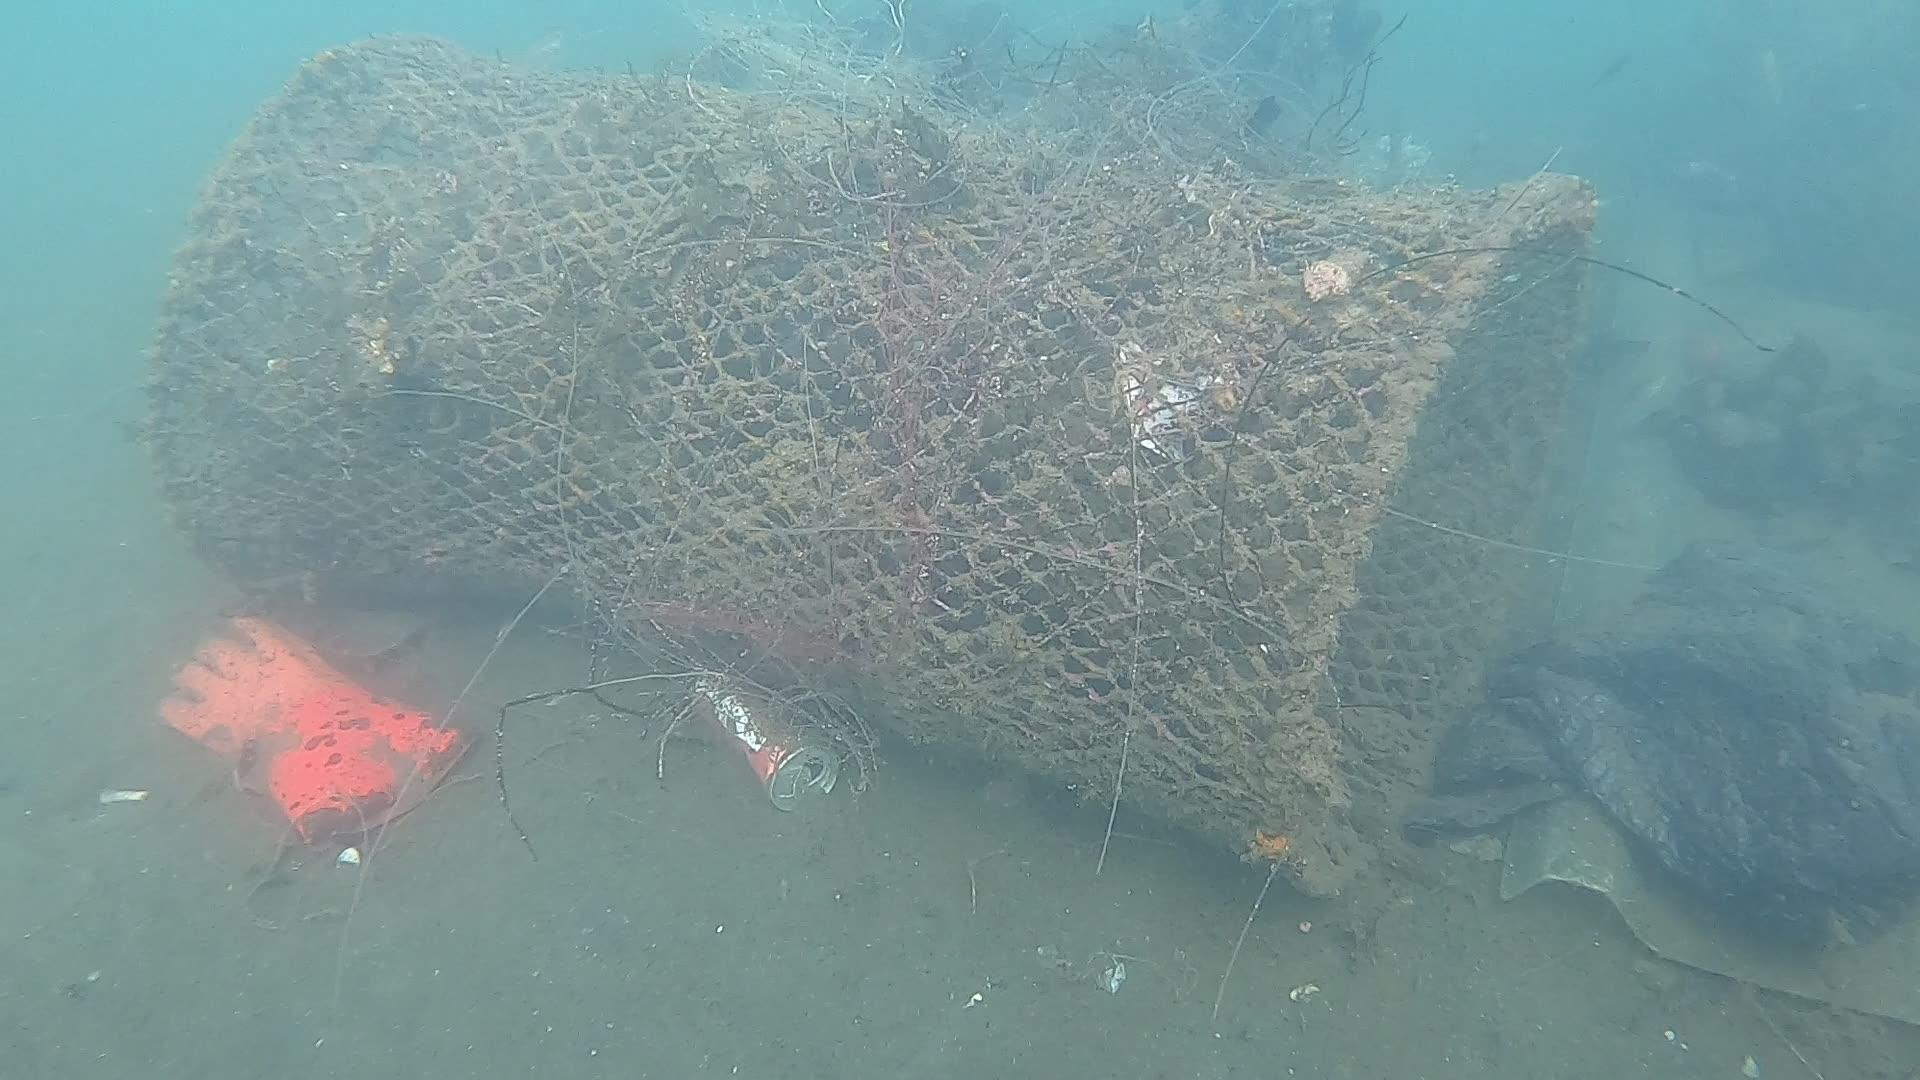spring fish trap: (140, 40, 1605, 893)
